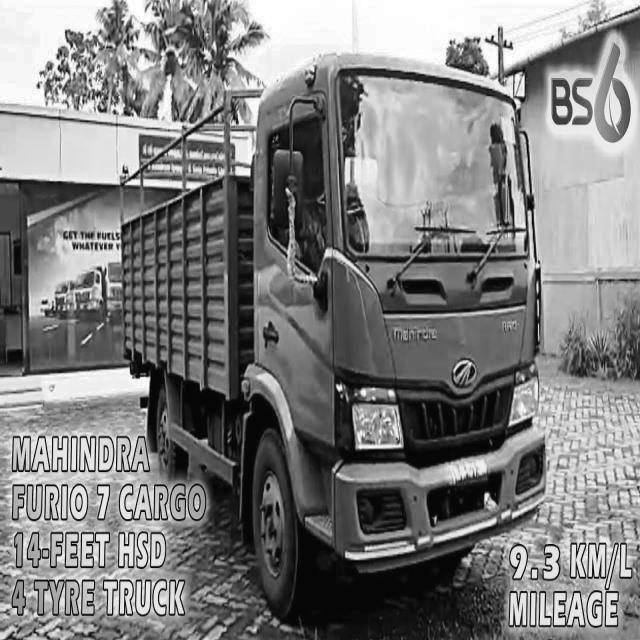HCV: (115, 29, 557, 597)
